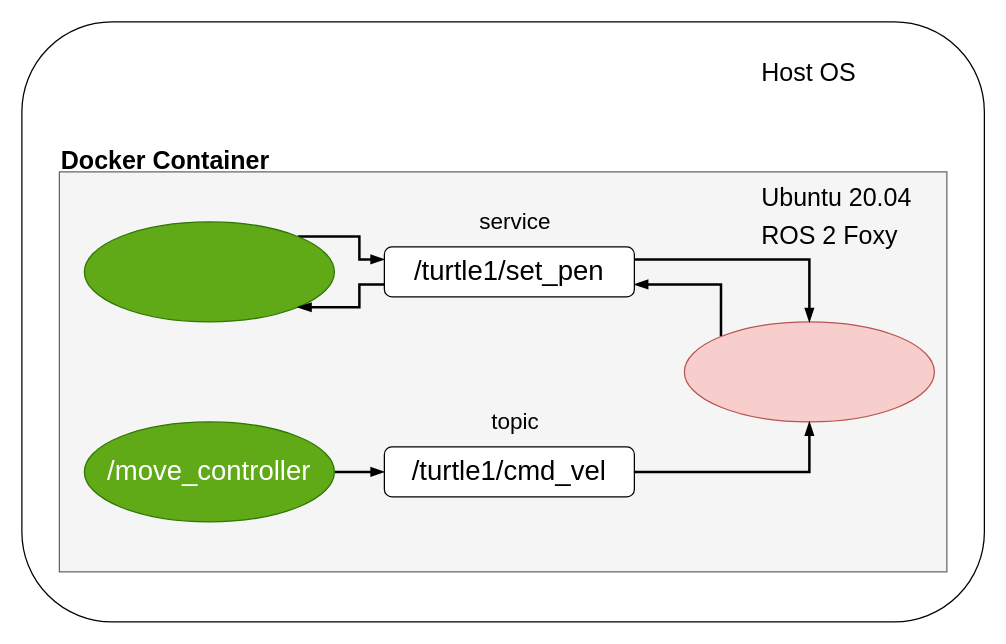
The diagram is 1006 pixels wide and 644 high, and some of its shapes have lost their labels. The shapes that lost their labels are listed below. From the top down, each one's centre as x and y in pixels, then its label:
At point (208, 271): "/color_controller".
At point (808, 371): "/turtlesim".
